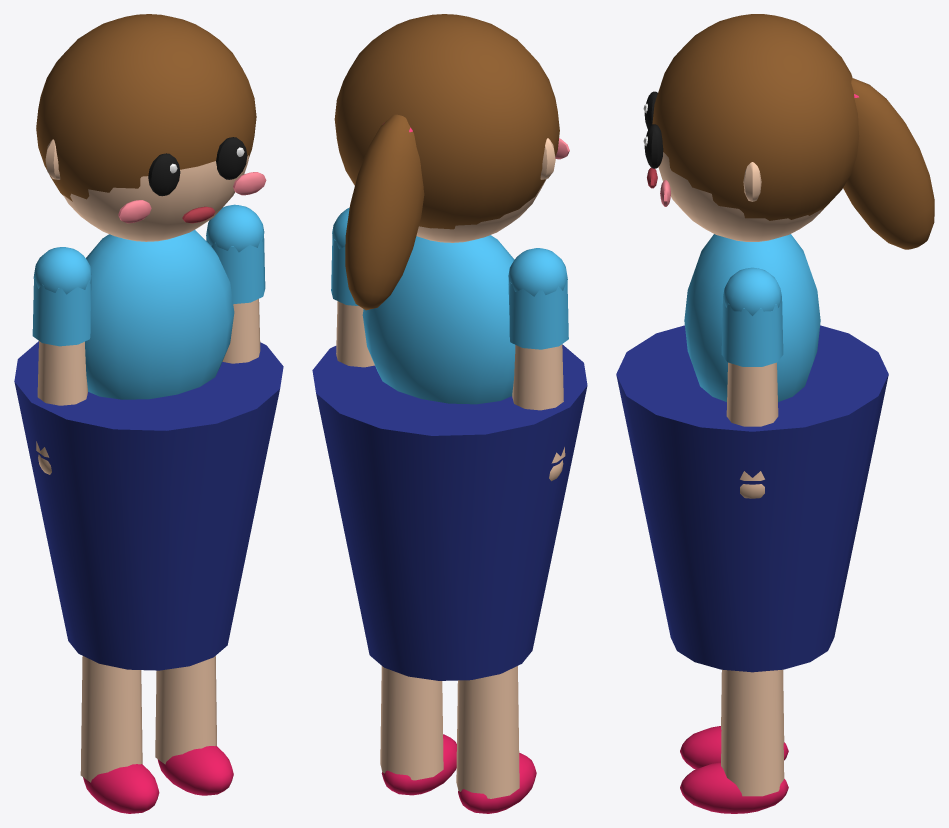
The model's file is dina_person.glb.
3 renders of one model, left to right at view 1: azimuth 30°, elevation 25°; view 2: azimuth 150°, elevation 25°; view 3: azimuth 270°, elevation 25°, orthographic. The views are drawn at different scales.
Visible parts, largest first — view 1: Body.001, Leg_R.001, Arm_R.001, Leg_L.001, Arm_L.001; view 2: Body.001, Leg_R.001, Arm_R.001, Leg_L.001, Arm_L.001; view 3: Body.001, Leg_L.001, Arm_L.001, Leg_R.001.
Part boxes in pixels (x1,y1,x2,y2): Body.001: [14, 14, 283, 670]; Leg_R.001: [80, 656, 159, 813]; Arm_R.001: [32, 247, 91, 474]; Leg_L.001: [155, 656, 233, 795]; Arm_L.001: [206, 204, 265, 363]; Body.001: [312, 14, 587, 680]; Leg_R.001: [456, 666, 536, 813]; Arm_R.001: [508, 248, 568, 481]; Leg_L.001: [380, 666, 456, 795]; Arm_L.001: [331, 207, 374, 367]; Body.001: [616, 14, 934, 672]; Leg_L.001: [680, 669, 788, 813]; Arm_L.001: [721, 267, 783, 498]; Leg_R.001: [680, 670, 788, 769].
Bounding box in the file's own units: 0.4148 × 1.29 × 0.4847.
